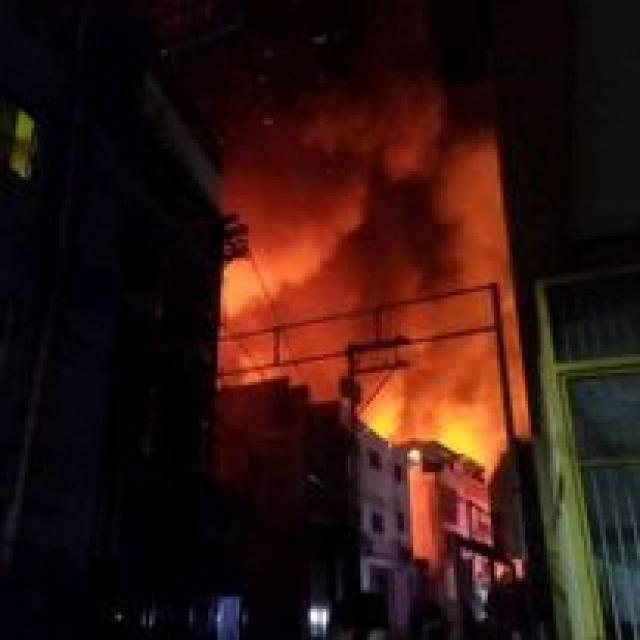Smoke: (229, 70, 496, 378), (370, 356, 512, 449)
